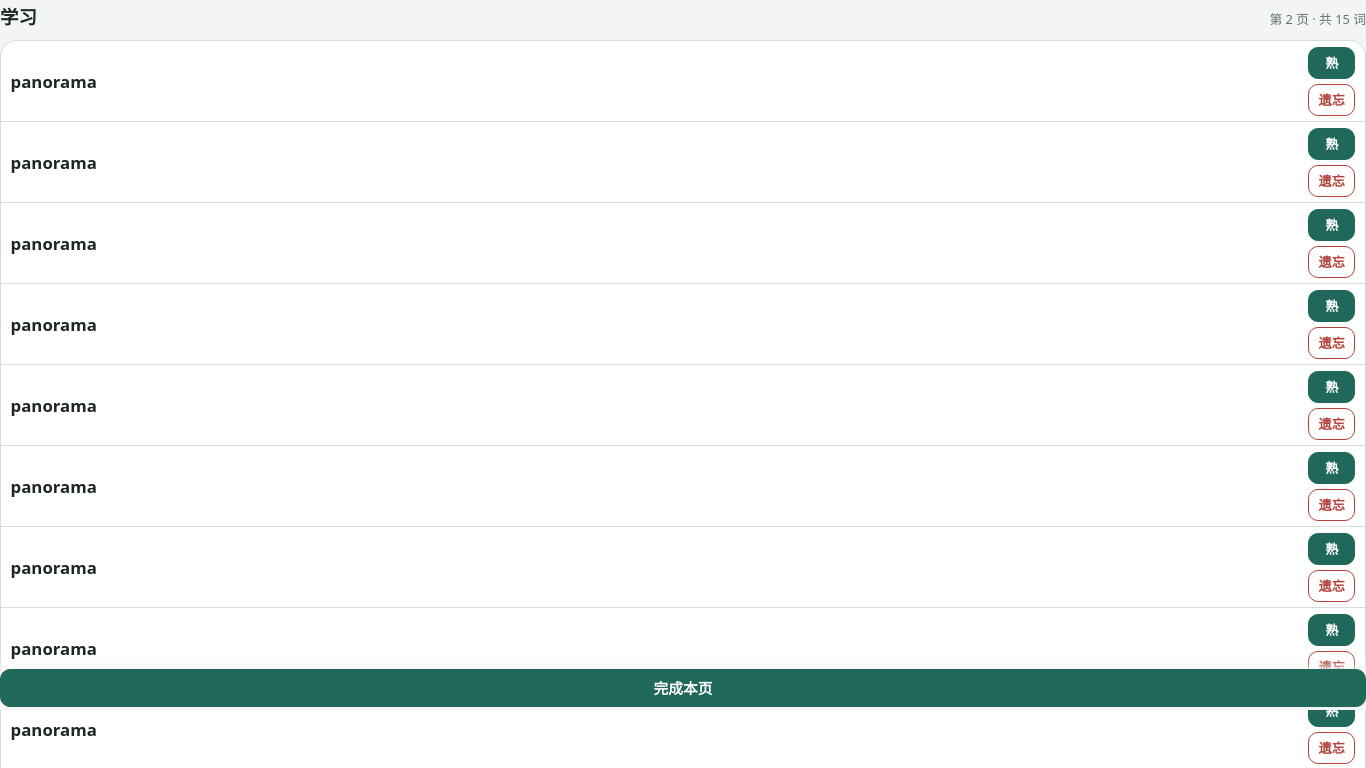
Test: 学习页 › 确认完成后显示撤销与下一页入口
Click the button "完成本页" at [683, 688], box 0,668 -> 1365,707
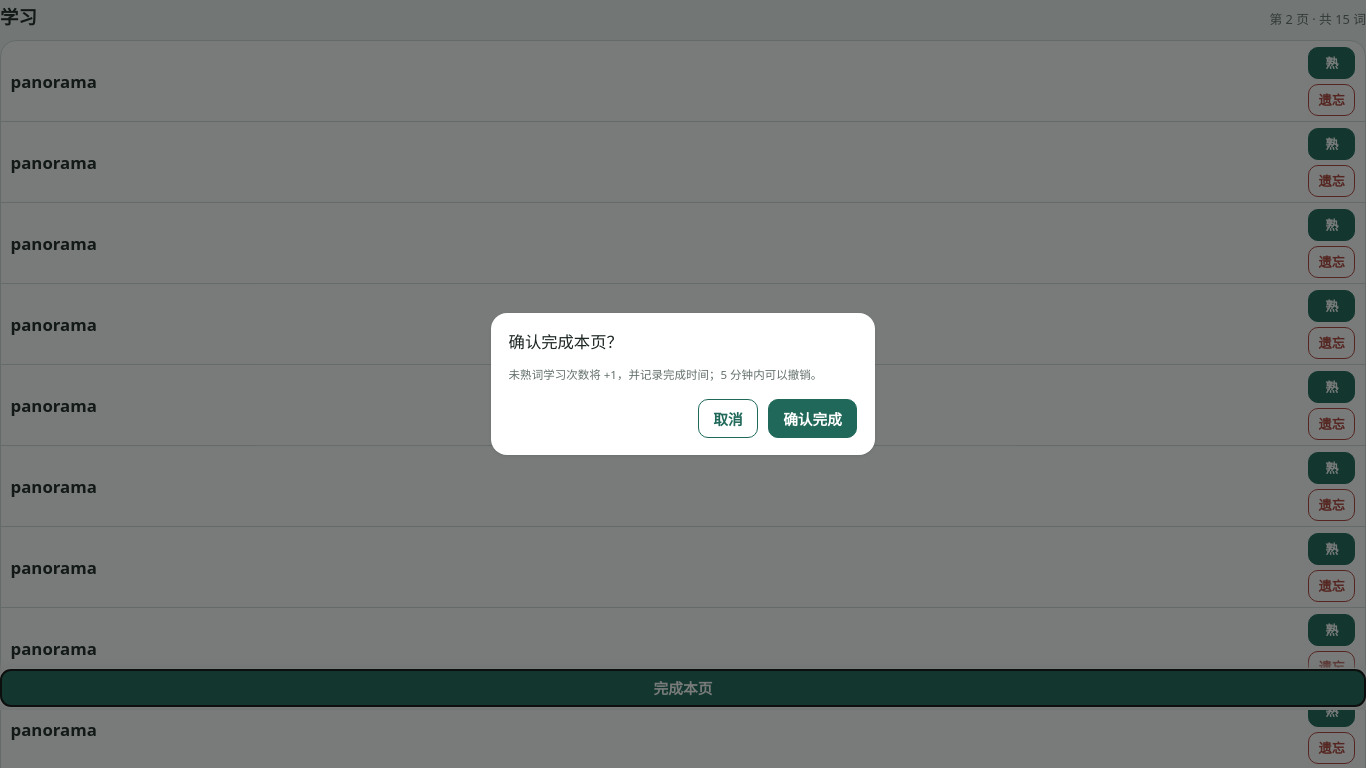
Click the button "确认完成" at [813, 419], box 768,399 -> 857,438
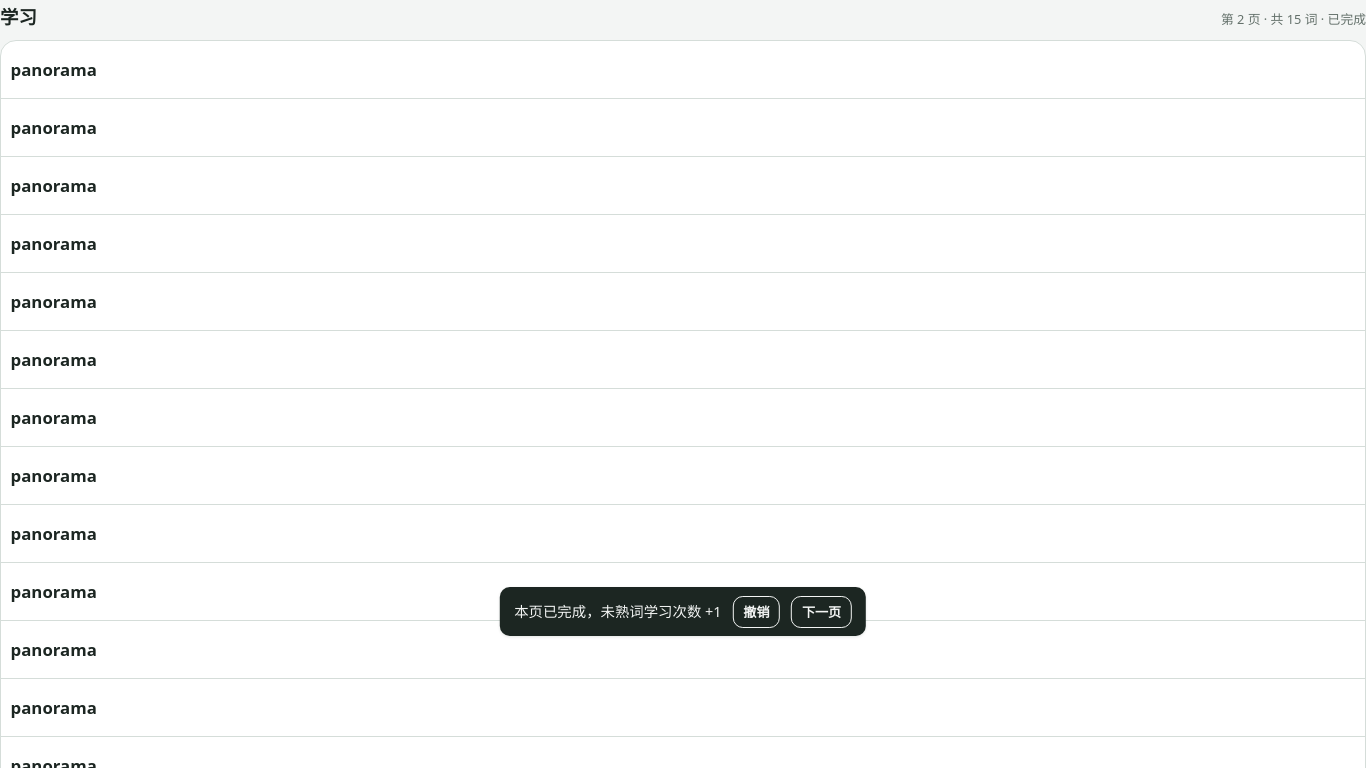
Result: the button "撤销" is shown at 733,596 -> 780,628
Result: the message shows "本页已完成" at 514,602 -> 722,621
Result: the button "下一页" is shown at 791,596 -> 852,628
